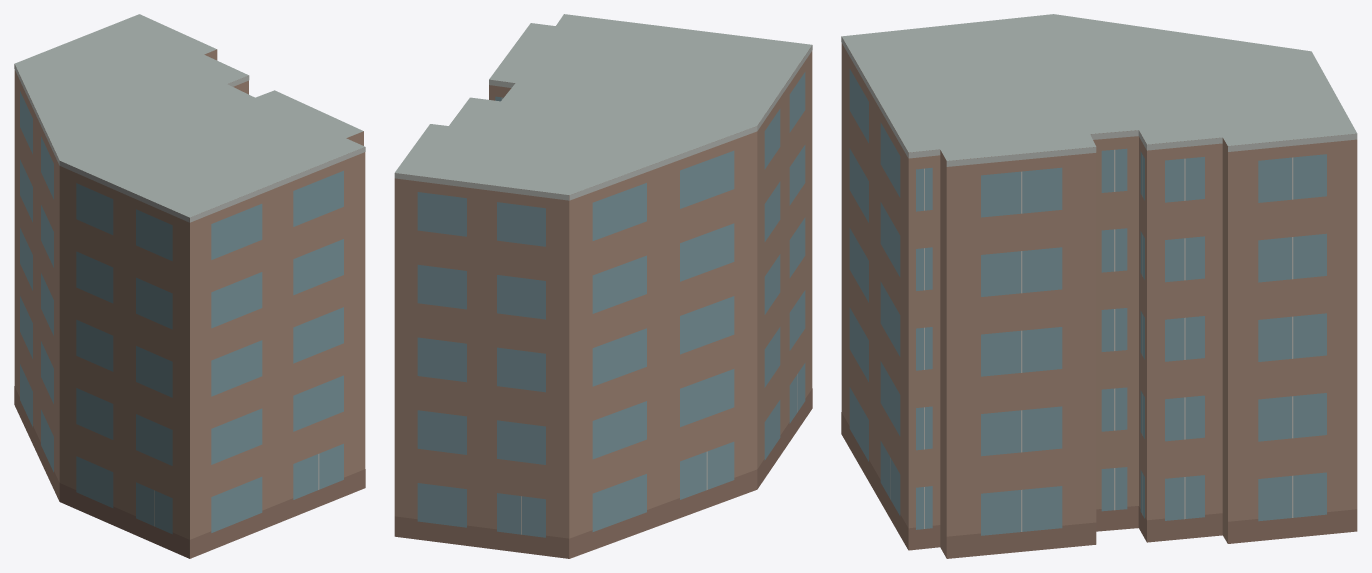
Rendered from survey-upis-32509701.glb.
3 renders of one model, left to right at view 1: azimuth 30°, elevation 25°; view 2: azimuth 150°, elevation 25°; view 3: azimuth 270°, elevation 25°, orthographic. The views are drawn at different scales.
Visible parts, largest first — view 1: survey-upis-32509701.tmp; view 2: survey-upis-32509701.tmp; view 3: survey-upis-32509701.tmp.
Boxes of the visible parts, box(x1,y1,x2,y2) form: survey-upis-32509701.tmp: box(14, 14, 365, 558); survey-upis-32509701.tmp: box(394, 14, 812, 558); survey-upis-32509701.tmp: box(841, 14, 1357, 558).
Size of the model in its own units: 12.85 by 16.2 by 19.05.
